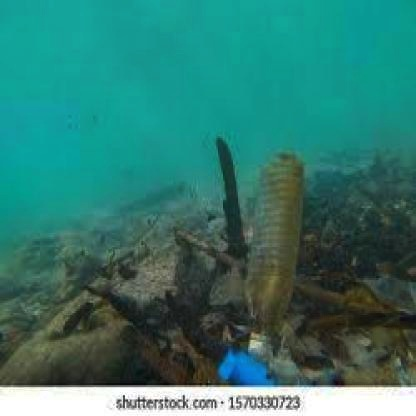pbottle: (238, 144, 316, 367)
